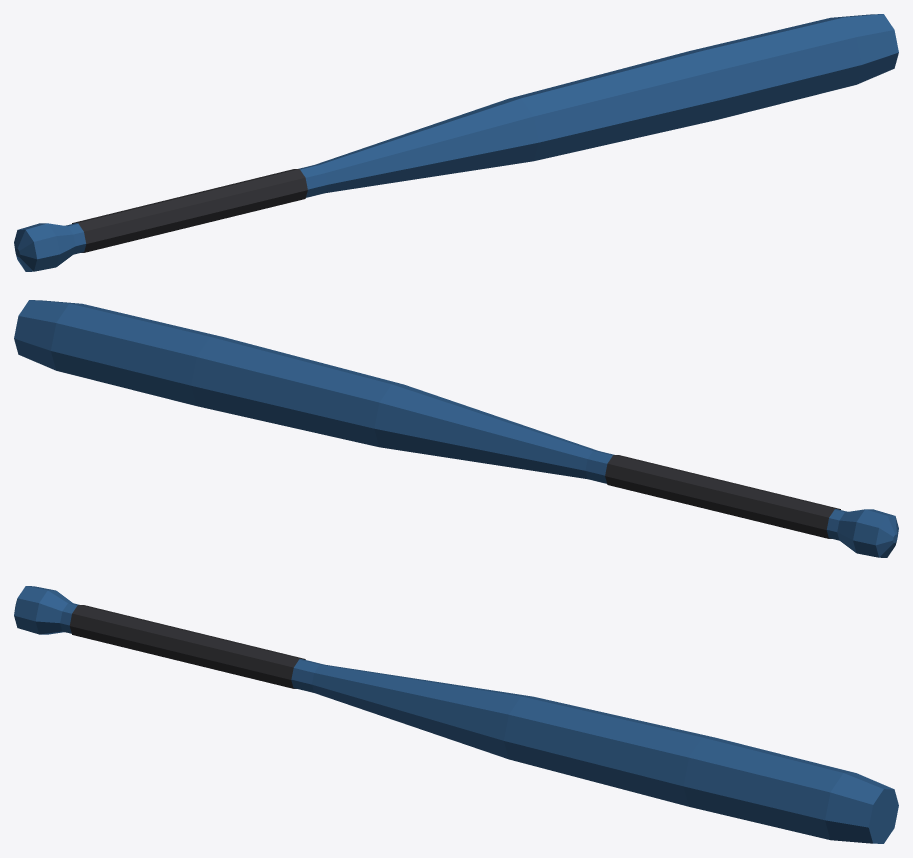
The model's file is GS_BaseballBat_Metal_01.glb.
3 views of the same model, one above another, from view 1: azimuth 30°, elevation 25°; view 2: azimuth 150°, elevation 25°; view 3: azimuth 330°, elevation 25° (orthographic).
Visible parts, largest first — view 1: GS_BaseballBat_Metal_01; view 2: GS_BaseballBat_Metal_01; view 3: GS_BaseballBat_Metal_01.
Boxes of the visible parts, x1,y1,x2,y2 form: GS_BaseballBat_Metal_01: (14,14,898,271); GS_BaseballBat_Metal_01: (14,300,898,557); GS_BaseballBat_Metal_01: (14,586,898,843).
Size of the model in its own units: 0.86 by 0.066 by 0.066.
1 material, 1 textured.
